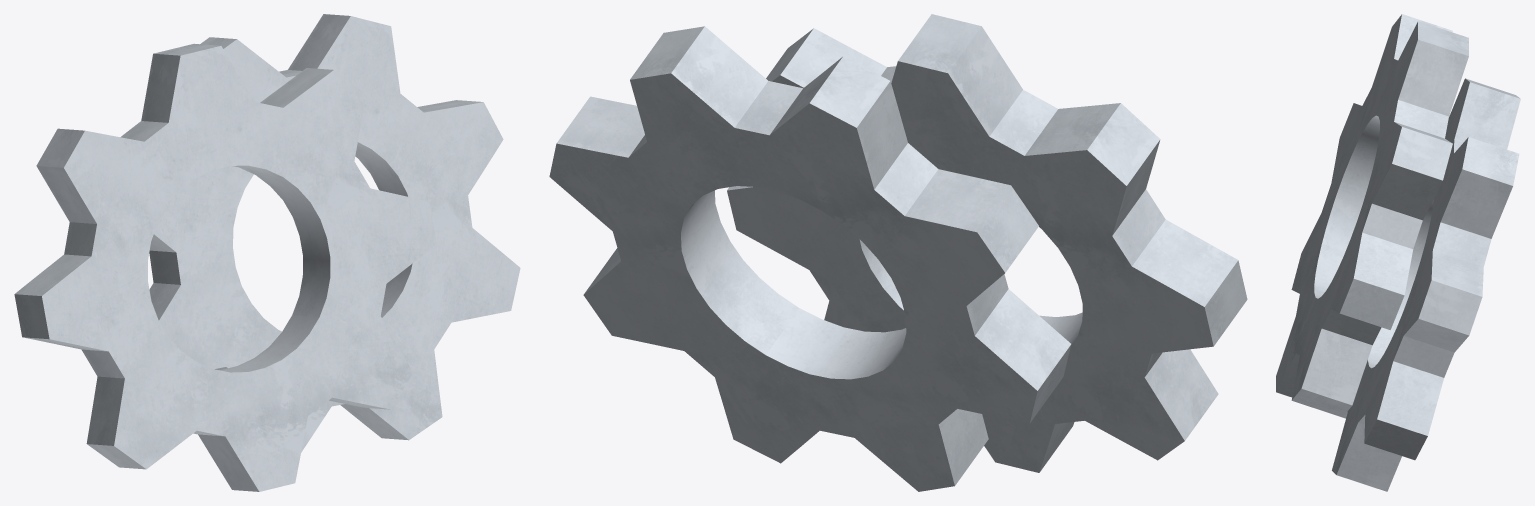
File: gears-transformed.glb
3 views of the same model, side by side, from view 1: azimuth 30°, elevation 25°; view 2: azimuth 150°, elevation 25°; view 3: azimuth 270°, elevation 25° (orthographic). The views are drawn at different scales.
Visible parts, largest first — view 1: Gear, GearRust; view 2: GearRust, Gear; view 3: Gear, GearRust.
Part boxes in pixels (box(x1,y1,x2,y2)): Gear: box(14, 43, 436, 491); GearRust: box(149, 14, 520, 452); GearRust: box(549, 26, 1071, 491); Gear: box(727, 14, 1247, 472); Gear: box(1276, 14, 1468, 417); GearRust: box(1332, 78, 1520, 491).
Bounding box in the file's own units: 0.2456 × 0.1952 × 0.1129.
Materials: 1 (1 with a texture image).
